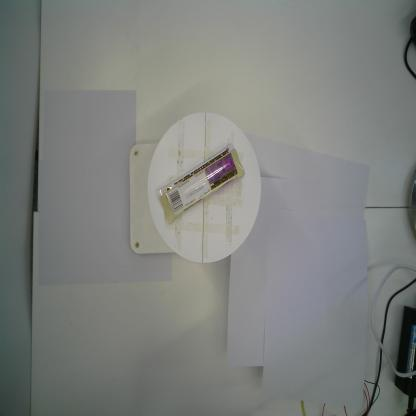Chocolate: (155, 142, 246, 225)
